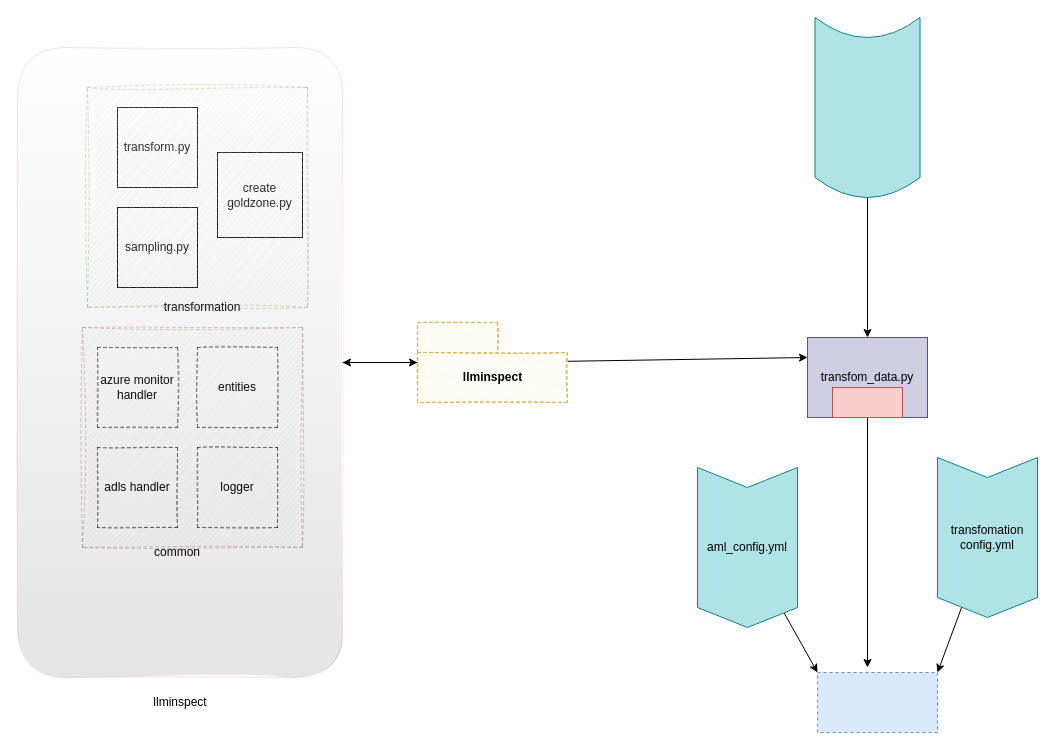
This 1055x750 diagram has some shape labels left out. Here are the shapes that lost their labels. From the top down, the centre of each, then its label:
At point (867, 107): "transfomation.yml".
At point (867, 402): "entry script".
At point (877, 702): "deploy script".
